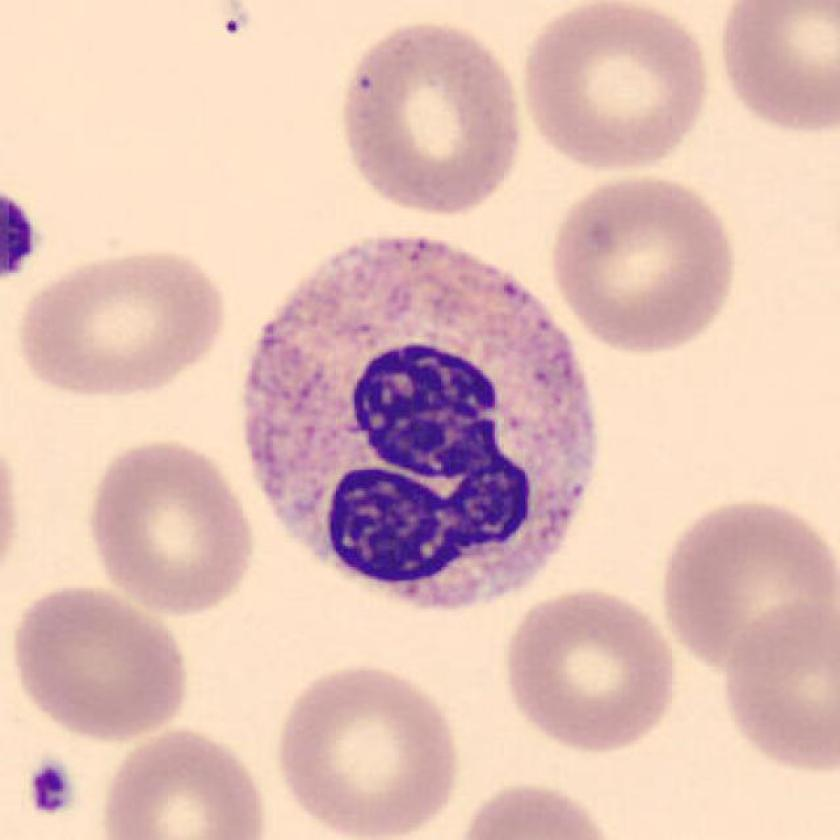neutrophil: (251, 239, 600, 612)
